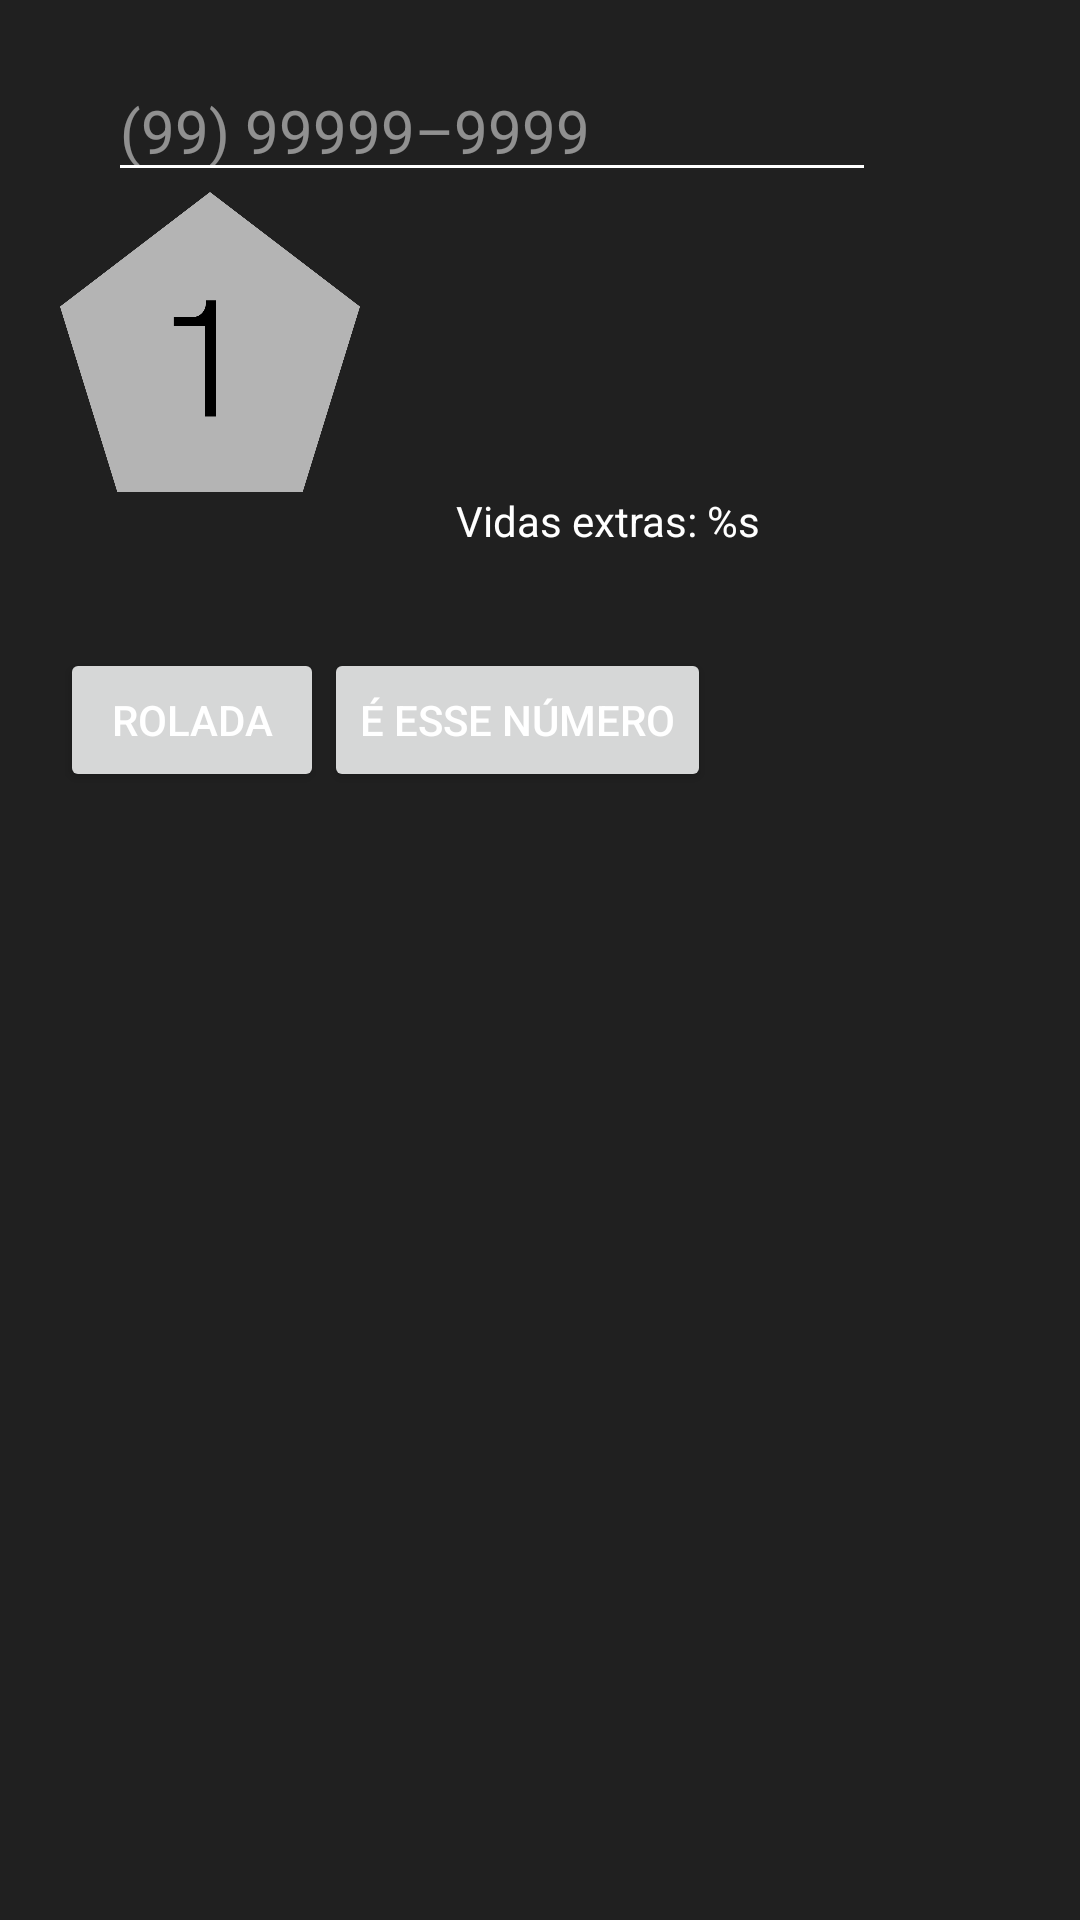

Named icons in this screenshot (1080x1920) and their bounding boxes, [x1, y1, x2, y2]:
dice: [60, 192, 360, 492]
